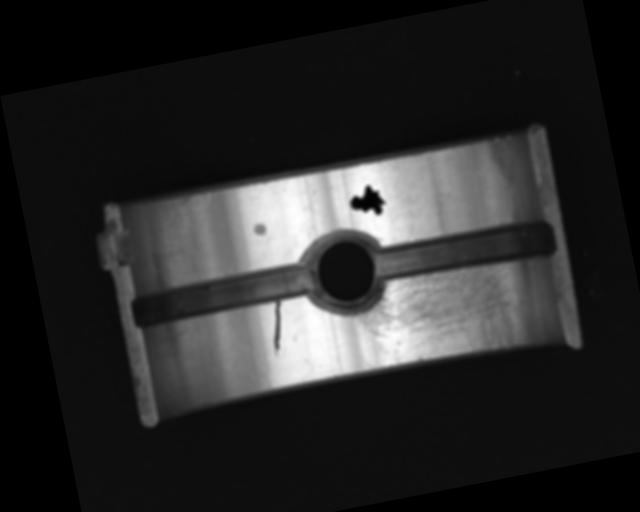blot: (346, 181, 388, 220)
bruise: (251, 221, 268, 237)
gap: (127, 258, 319, 333), (371, 214, 557, 288)
hole: (299, 223, 391, 321)
nick: (263, 299, 291, 358)
scratch: (350, 254, 533, 376)
